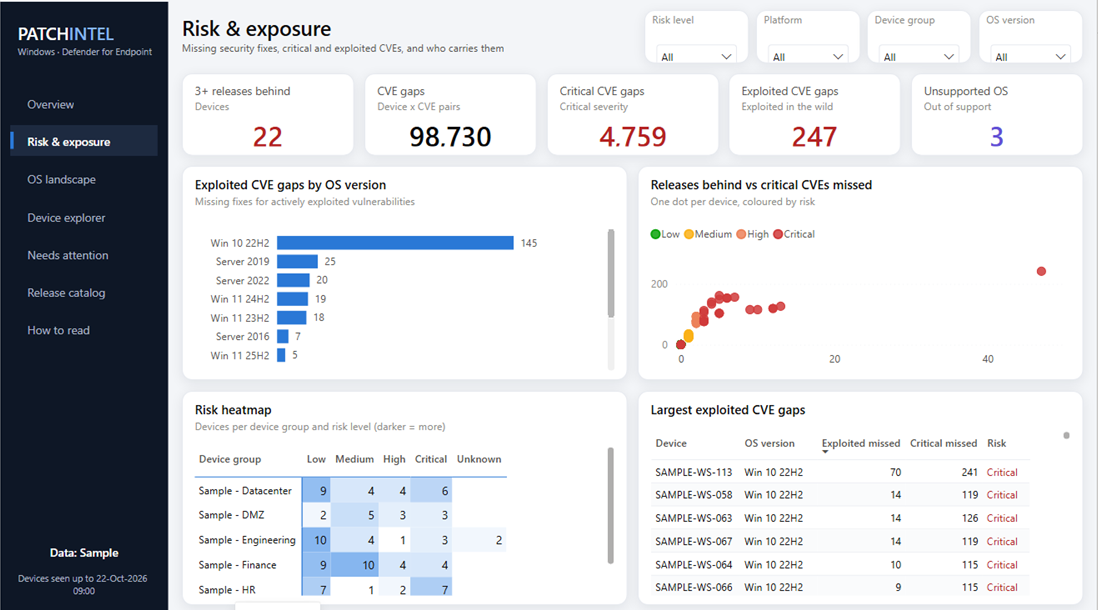

The dashboard page shown, as its layout file describes it:
{"tool":"powerbi","page":{"name":"Risk & exposure","canvas":[1280,720],"ordinal":1},"visuals":[{"type":"textbox","box":[0,0,196,720],"z":0},{"type":"textbox","box":[20,22,164,52],"z":1000},{"type":"actionButton","box":[12,100,172,36],"z":2000},{"type":"textbox","box":[12,144,172,36],"z":3000},{"type":"textbox","box":[12,152,4,20],"z":4000},{"type":"actionButton","box":[12,144,172,36],"z":5000},{"type":"actionButton","box":[12,188,172,36],"z":6000},{"type":"actionButton","box":[12,232,172,36],"z":7000},{"type":"actionButton","box":[12,276,172,36],"z":8000},{"type":"actionButton","box":[12,320,172,36],"z":9000},{"type":"actionButton","box":[12,364,172,36],"z":10000},{"type":"card","fields":{"Values":["DevicePatchLevel.Data Source Label"]},"box":[12,628,172,34],"z":11000},{"type":"card","fields":{"Values":["DevicePatchLevel.Data As Of"]},"box":[12,658,172,44],"z":12000},{"type":"textbox","box":[212,14,520,56],"z":13000},{"type":"slicer","title":"Risk level","fields":{"Values":["DevicePatchLevel.RiskLevel"]},"box":[752,10,122,62],"z":14000},{"type":"slicer","title":"Platform","fields":{"Values":["DevicePatchLevel.Platform"]},"box":[882,10,122,62],"z":15000},{"type":"slicer","title":"Device group","fields":{"Values":["DevicePatchLevel.MachineGroup"]},"box":[1012,10,122,62],"z":16000},{"type":"slicer","title":"OS version","fields":{"Values":["DevicePatchLevel.OS"]},"box":[1142,10,122,62],"z":17000},{"type":"card","title":"3+ releases behind","fields":{"Values":["DevicePatchLevel.Devices 3+ Behind"]},"box":[212,84,200.8,96],"z":18000},{"type":"card","title":"CVE gaps","fields":{"Values":["DevicePatchLevel.CVE Exposures"]},"box":[424.8,84,200.8,96],"z":19000},{"type":"card","title":"Critical CVE gaps","fields":{"Values":["DevicePatchLevel.Critical CVE Exposures"]},"box":[637.6,84,200.8,96],"z":20000},{"type":"card","title":"Exploited CVE gaps","fields":{"Values":["DevicePatchLevel.Exploited CVE Exposures"]},"box":[850.4,84,200.8,96],"z":21000},{"type":"card","title":"Unsupported OS","fields":{"Values":["DevicePatchLevel.Devices Unsupported OS"]},"box":[1063.2,84,200.8,96],"z":22000},{"type":"barChart","title":"Exploited CVE gaps by OS version","fields":{"Category":["DevicePatchLevel.OS"],"Y":["DevicePatchLevel.Exploited CVE Exposures"]},"box":[212,192,520,250],"z":23000},{"type":"scatterChart","title":"Releases behind vs critical CVEs missed","fields":{"Category":["DevicePatchLevel.DeviceName"],"Series":["DevicePatchLevel.RiskLevel"],"X":["Sum(DevicePatchLevel.PatchesBehind)"],"Y":["Sum(DevicePatchLevel.CriticalCVEsMissed)"]},"box":[744,192,520,250],"z":24000},{"type":"pivotTable","title":"Risk heatmap","fields":{"Columns":["DevicePatchLevel.RiskLevel"],"Rows":["DevicePatchLevel.MachineGroup"],"Values":["DevicePatchLevel.Devices"]},"box":[212,454,520,250],"z":25000},{"type":"tableEx","title":"Largest exploited CVE gaps","fields":{"Values":["DevicePatchLevel.DeviceName","DevicePatchLevel.OS","DevicePatchLevel.ExploitedCVEsMissed","DevicePatchLevel.CriticalCVEsMissed","DevicePatchLevel.RiskLevel"]},"box":[744,454,520,250],"z":26000}]}

Visuals, with their boxes on the page's 1280x720 design canvas (x1, y1, x2, y2). These are canvas units, not pixel positions in the 1098x610 screenshot, which may show the page scaled, cropped or inside an application window:
textbox: (0,0,196,720)
textbox: (20,22,184,74)
actionButton: (12,100,184,136)
textbox: (12,144,184,180)
textbox: (12,152,16,172)
actionButton: (12,144,184,180)
actionButton: (12,188,184,224)
actionButton: (12,232,184,268)
actionButton: (12,276,184,312)
actionButton: (12,320,184,356)
actionButton: (12,364,184,400)
card - DevicePatchLevel.Data Source Label: (12,628,184,662)
card - DevicePatchLevel.Data As Of: (12,658,184,702)
textbox: (212,14,732,70)
"Risk level" slicer: (752,10,874,72)
"Platform" slicer: (882,10,1004,72)
"Device group" slicer: (1012,10,1134,72)
"OS version" slicer: (1142,10,1264,72)
"3+ releases behind" card: (212,84,413,180)
"CVE gaps" card: (425,84,626,180)
"Critical CVE gaps" card: (638,84,838,180)
"Exploited CVE gaps" card: (850,84,1051,180)
"Unsupported OS" card: (1063,84,1264,180)
"Exploited CVE gaps by OS version" barChart: (212,192,732,442)
"Releases behind vs critical CVEs missed" scatterChart: (744,192,1264,442)
"Risk heatmap" pivotTable: (212,454,732,704)
"Largest exploited CVE gaps" tableEx: (744,454,1264,704)
